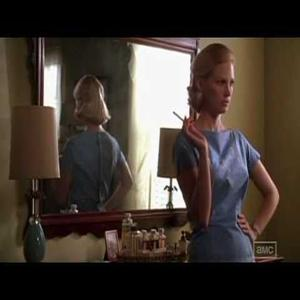cigarette: (171, 108, 197, 132)
